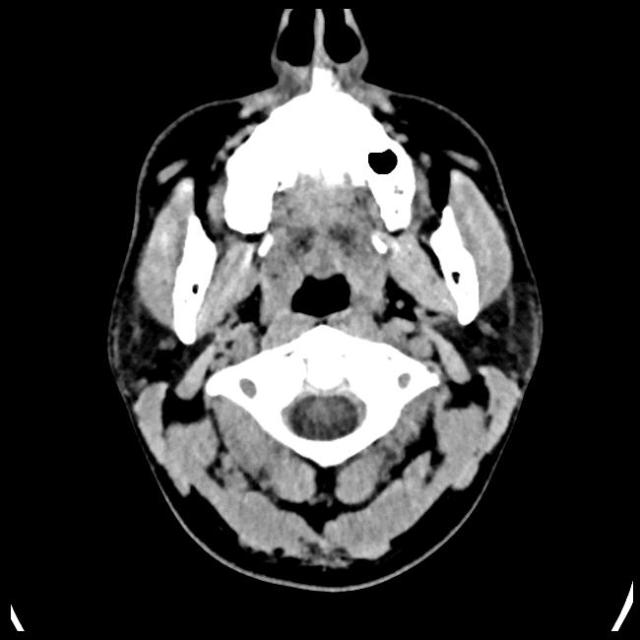lesion: (104, 7, 546, 580)
